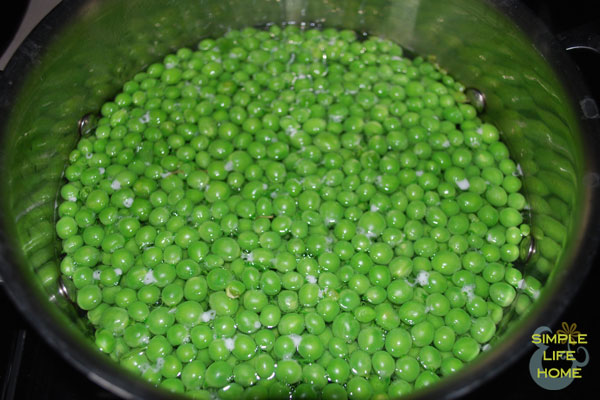boiled peas: (80, 34, 519, 377)
